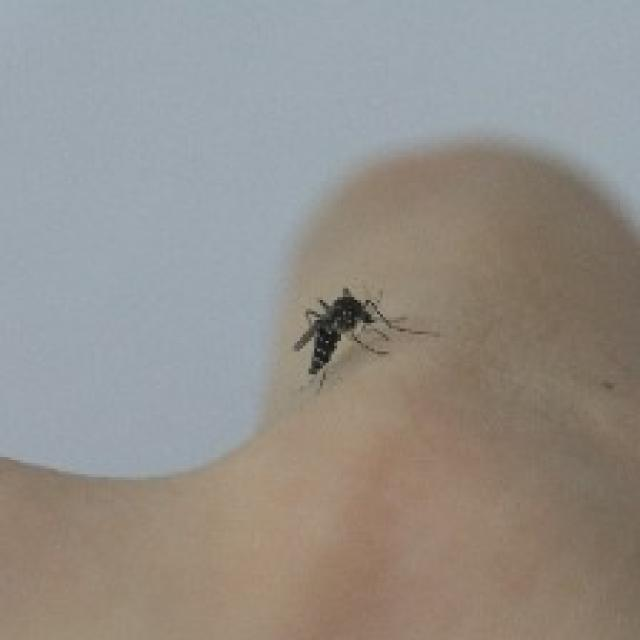aedes: (289, 283, 437, 388)
